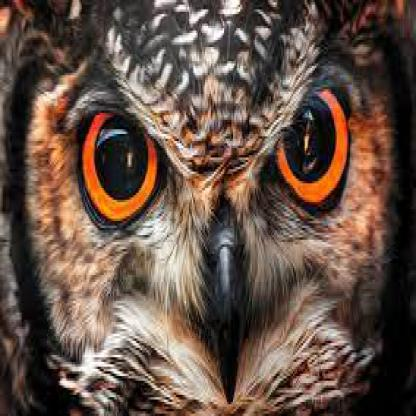owl: (10, 19, 415, 414)
